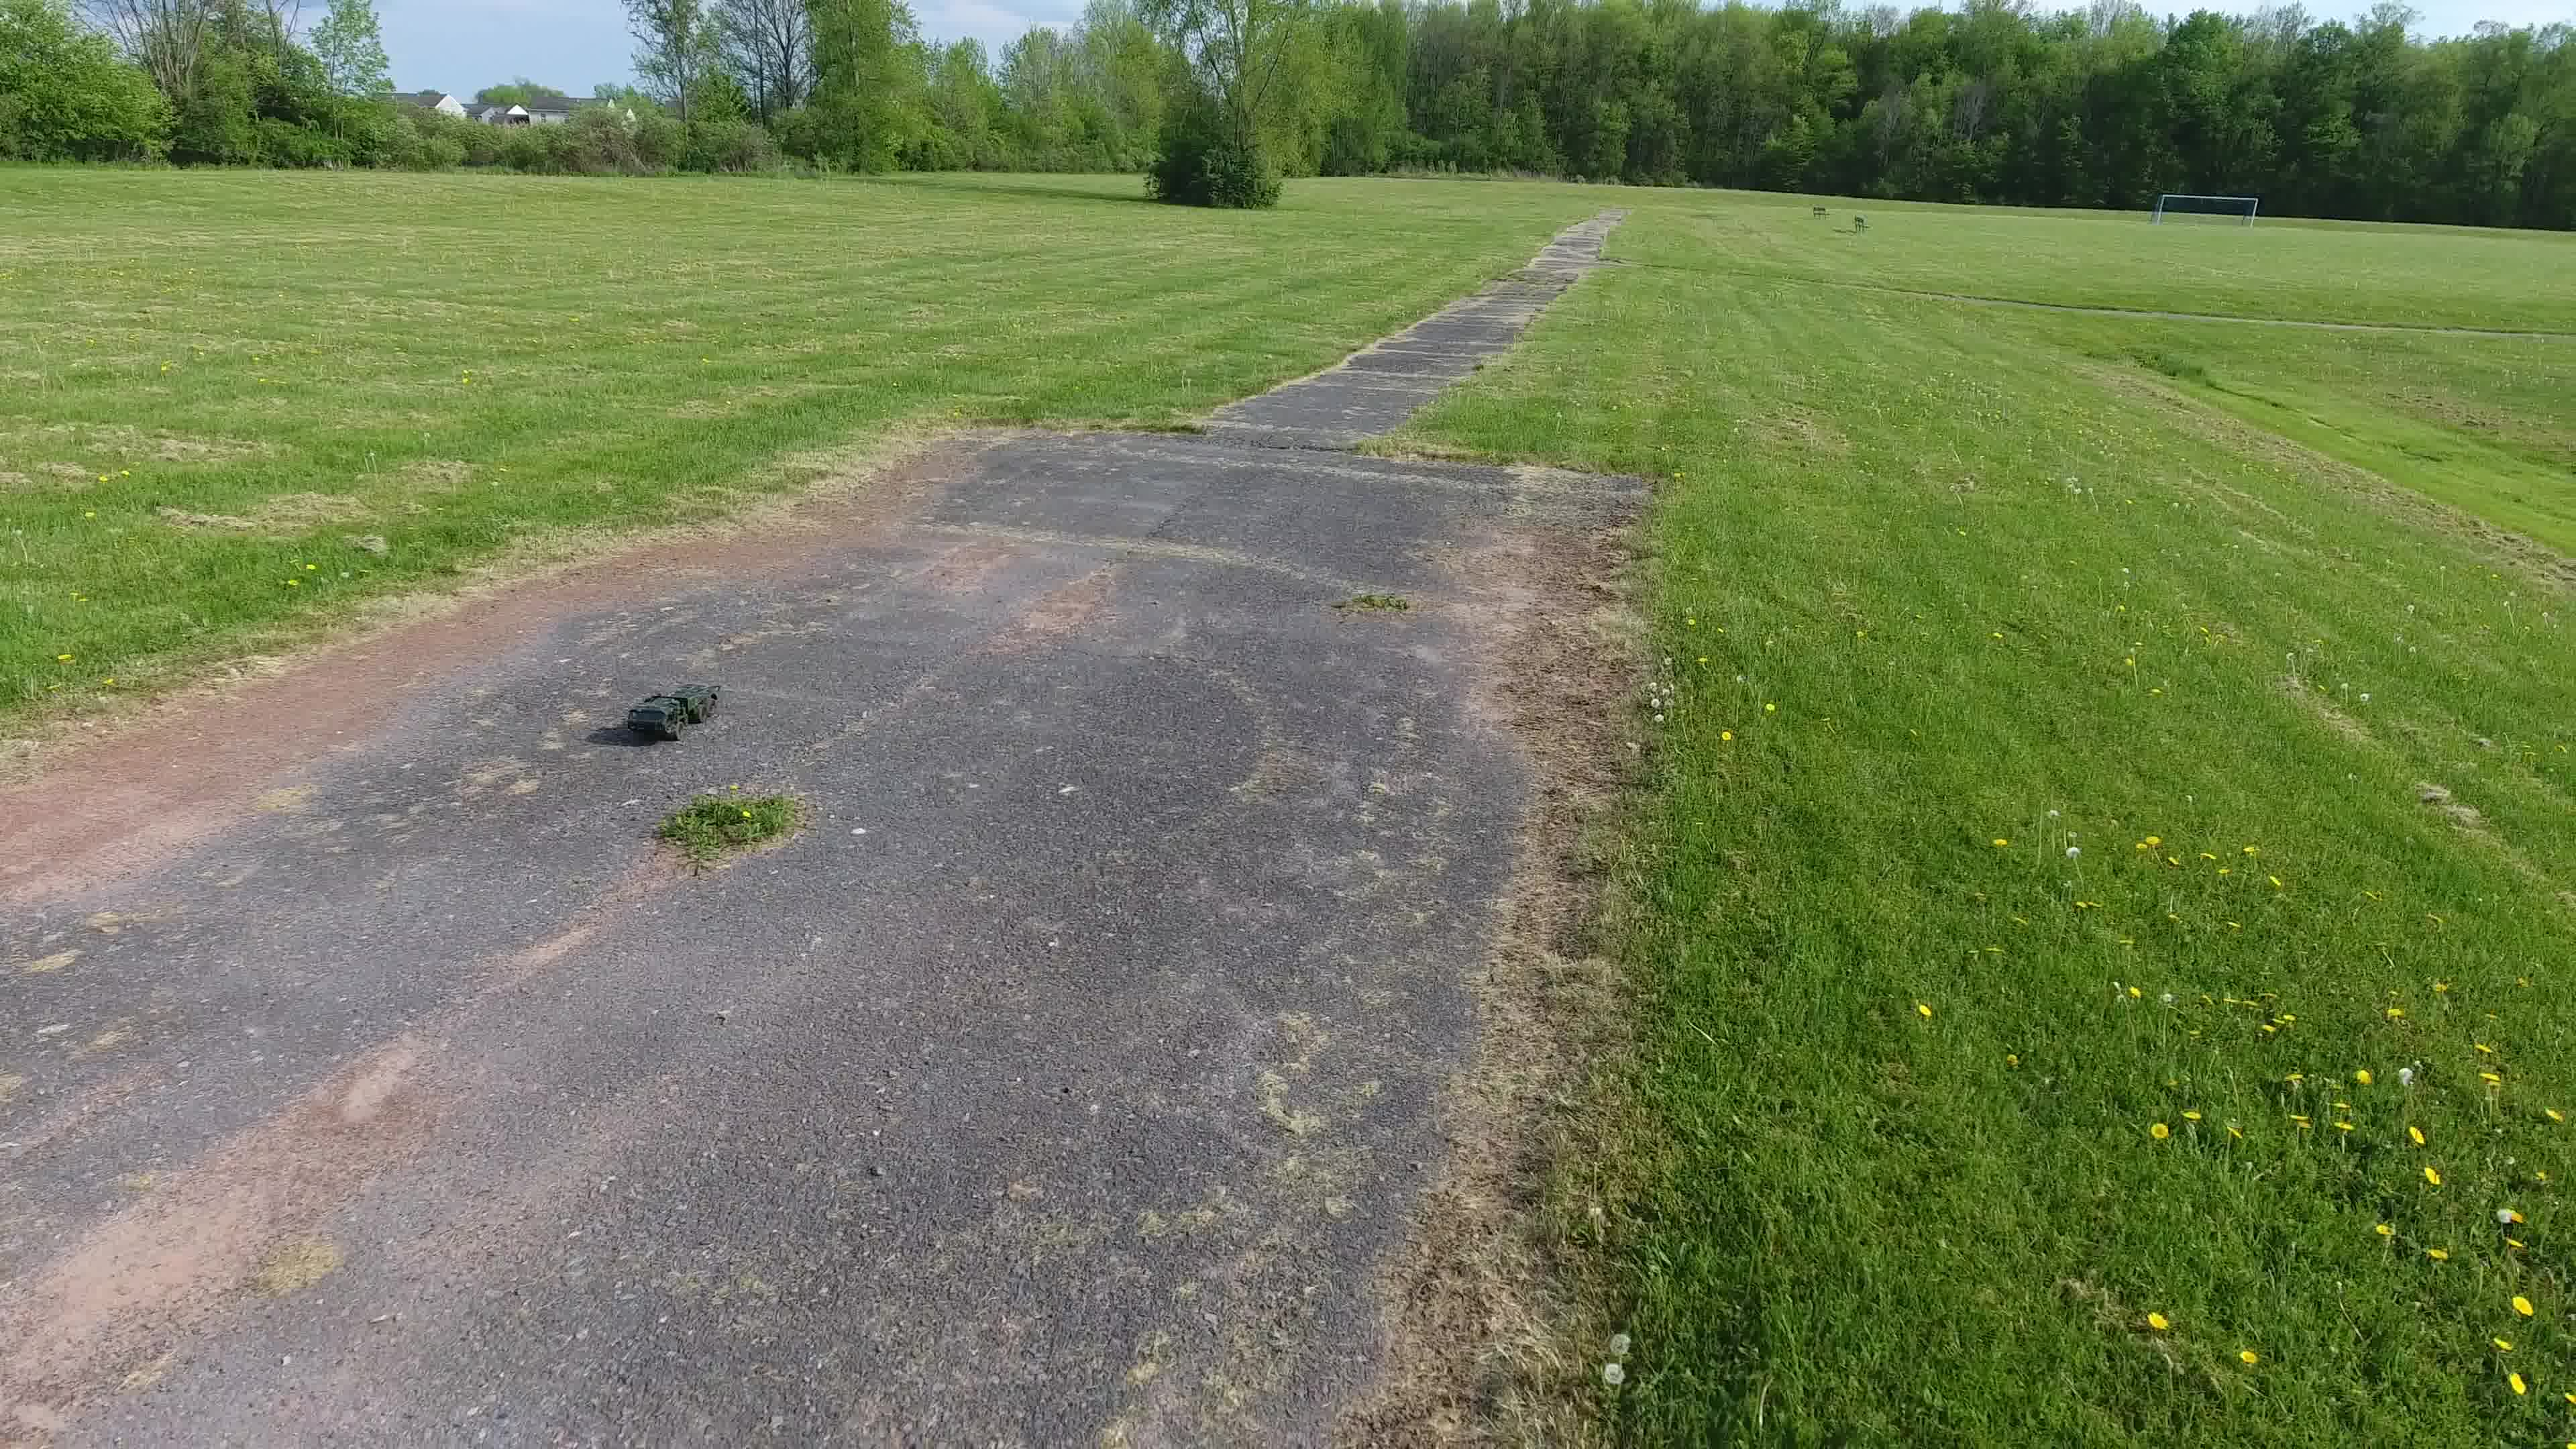transporter9_camo: (625, 679, 722, 745)
